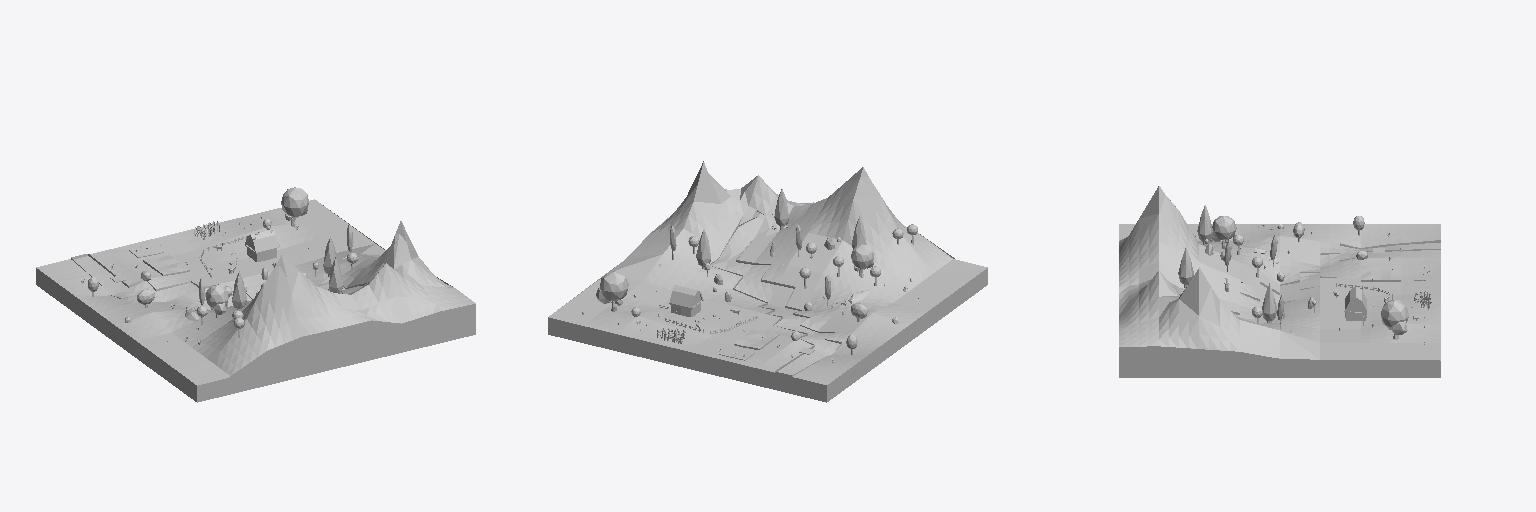
The model's file is landskape.obj.
The picture shows the model from 3 angles: view 1: azimuth 30°, elevation 25°; view 2: azimuth 150°, elevation 25°; view 3: azimuth 270°, elevation 25°; orthographic projection.
Parts seen in each view (by area): view 1: Plane, Cube.001_Cube.003, Icosphere.010_Icosphere.015; view 2: Plane, Cube.001_Cube.003, Icosphere.010_Icosphere.015; view 3: Plane, Icosphere.010_Icosphere.015, Cube.001_Cube.003.
Boxes of the visible parts, x1,y1,x2,y2 form: Plane: [36, 199, 475, 402]; Cube.001_Cube.003: [245, 229, 278, 261]; Icosphere.010_Icosphere.015: [281, 187, 308, 220]; Plane: [548, 161, 987, 402]; Cube.001_Cube.003: [669, 285, 703, 316]; Icosphere.010_Icosphere.015: [596, 271, 628, 305]; Plane: [1119, 186, 1440, 377]; Icosphere.010_Icosphere.015: [1381, 300, 1408, 334]; Cube.001_Cube.003: [1344, 286, 1366, 320].
Bounding box in the file's own units: 10.67 × 3.92 × 10.67.